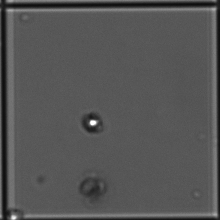Dead Cell: (78, 175, 108, 204)
Living Cell: (84, 115, 105, 129)
